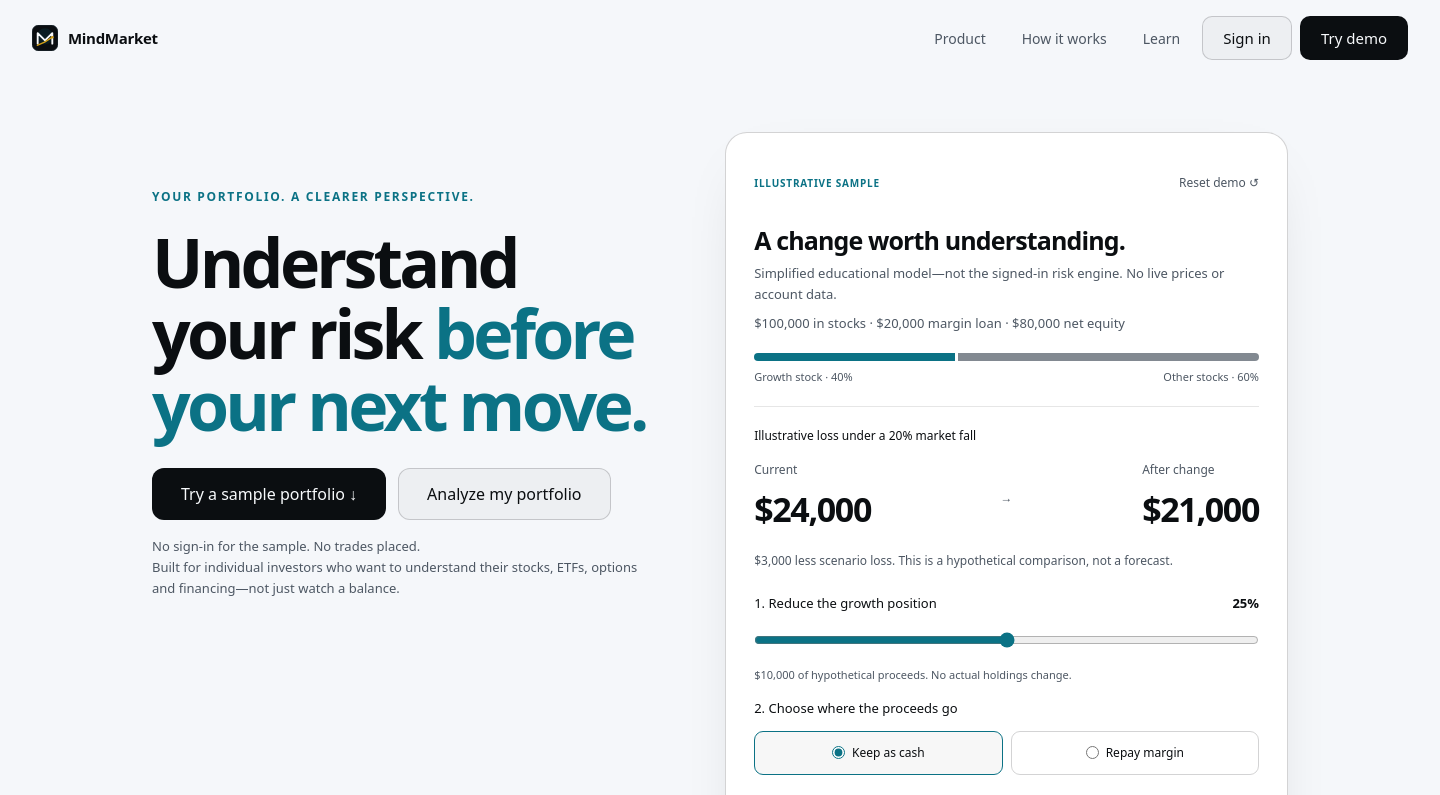
Test: public product experience › recalculates an exact before/after and preserves the cash versus debt distinction
Expected: the text "$24,000" is shown, [754,484,871,535]
Expected: the text "$21,000" is shown, [1142,484,1259,535]
Click the radio button labelled "Repay margin": [1092, 753] box [1086,746,1099,759]
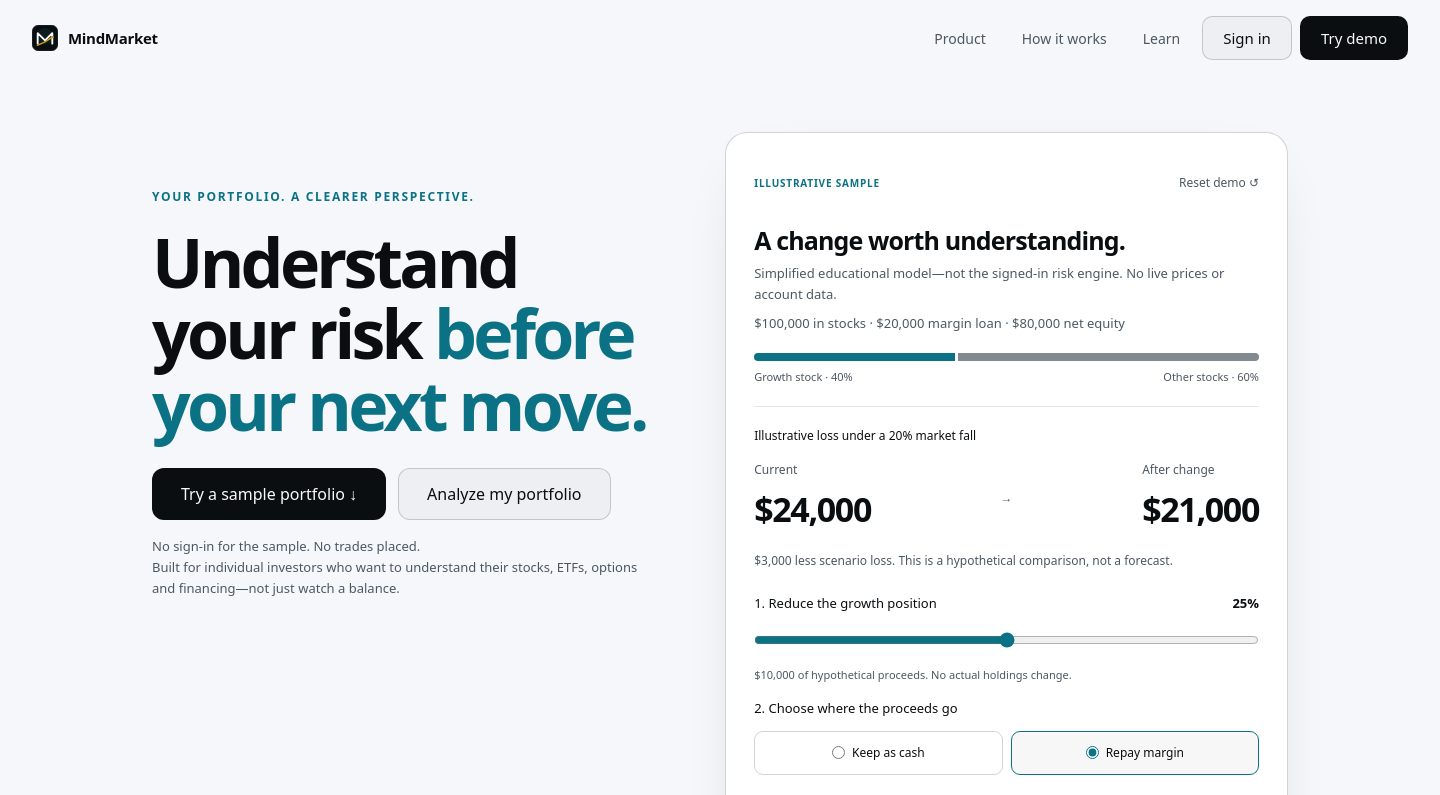
Expected: the text "$21,000" is shown, [1142,484,1259,535]
Set the slider to "50": [1251, 640] box [754,626,1259,654]
(page scrolled)
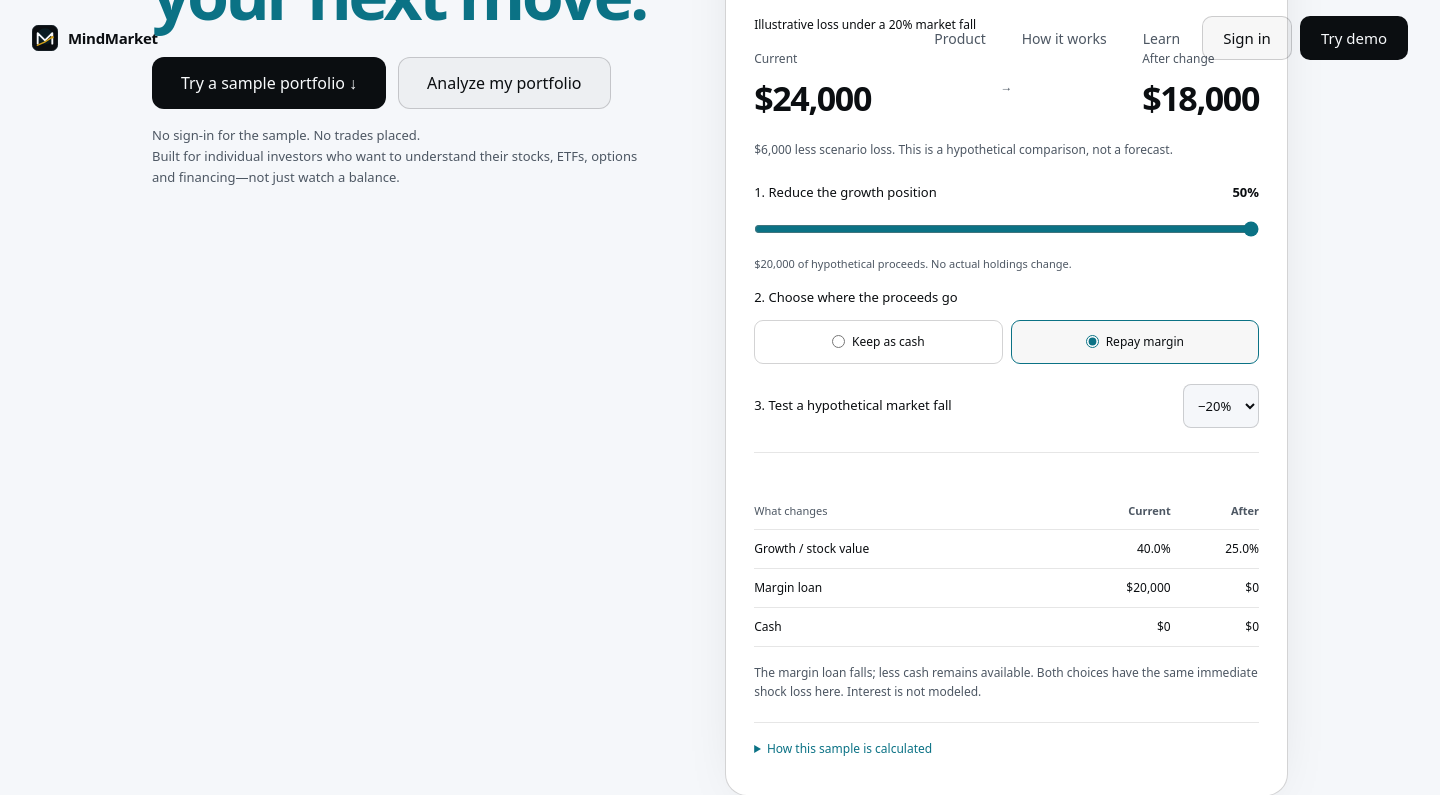
Expected: the text "$18,000" is shown, [1142,73,1259,124]
Select "−30%" in the dropdown: [1221, 406] box [1183,384,1259,428]
(page scrolled)
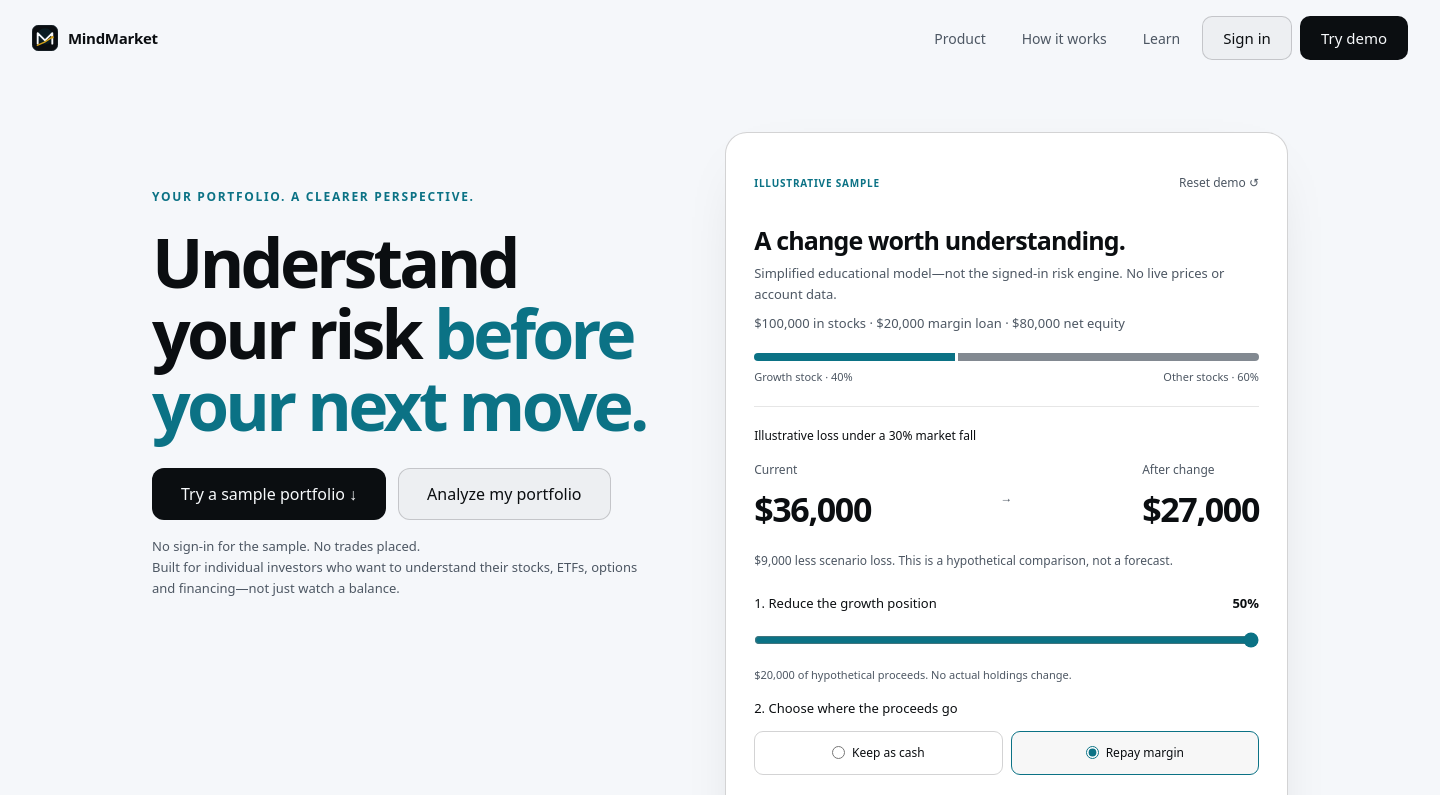
Expected: the text "$27,000" is shown, [1142,484,1259,535]
Click the button "Reset demo ↺": [1219, 183] box [1179,161,1259,205]
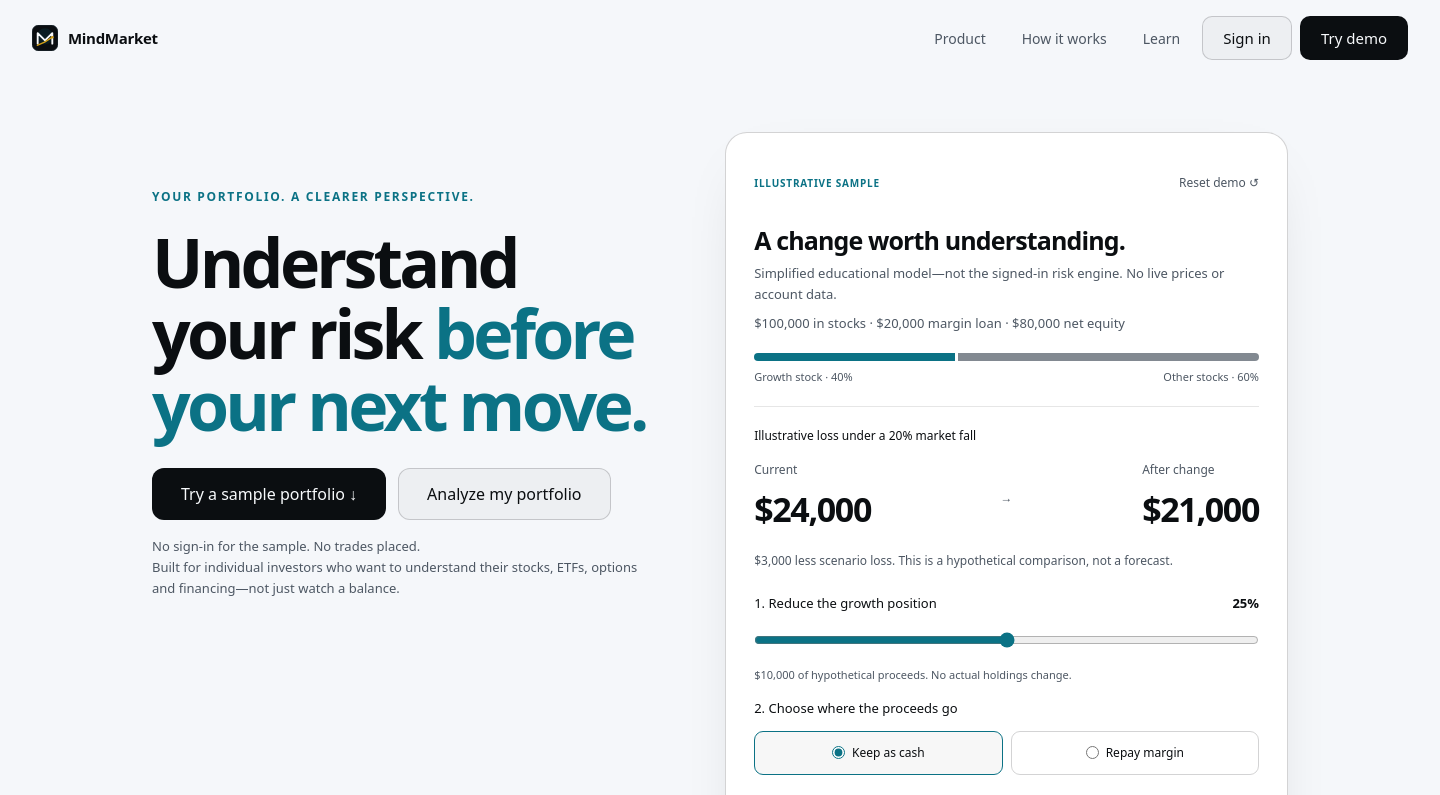
Expected: the slider holds "25", [754,626,1259,654]
Expected: the radio button labelled "Keep as cash" is checked, [832,746,845,759]
Expected: the text "$21,000" is shown, [1142,484,1259,535]
